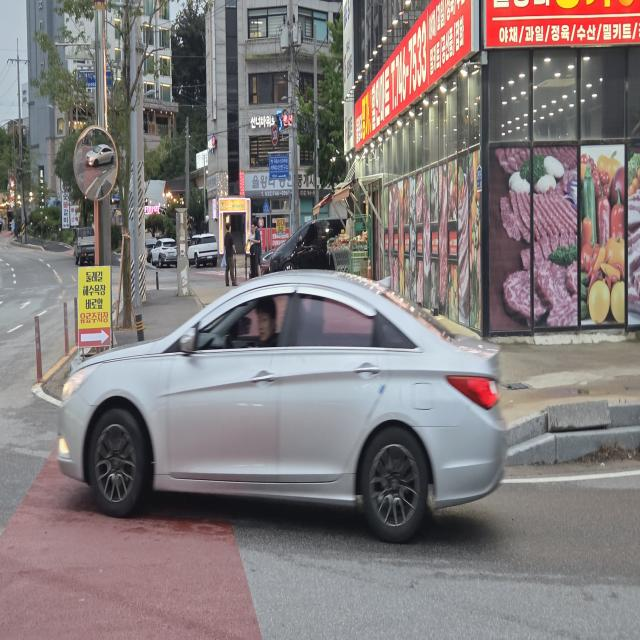car: (37, 238, 532, 570)
